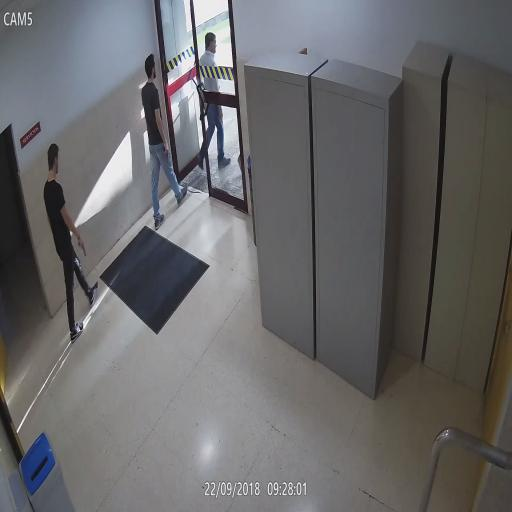Handgun: (76, 236, 88, 258), (162, 140, 171, 164)
